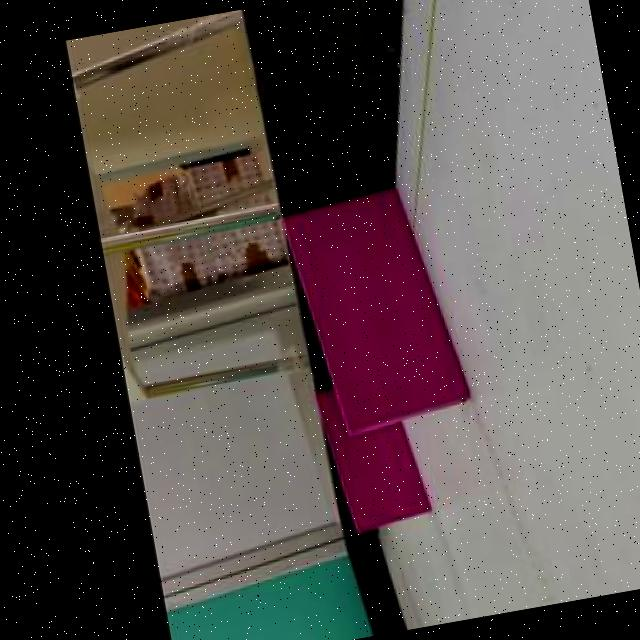xparking: (284, 187, 471, 432)
